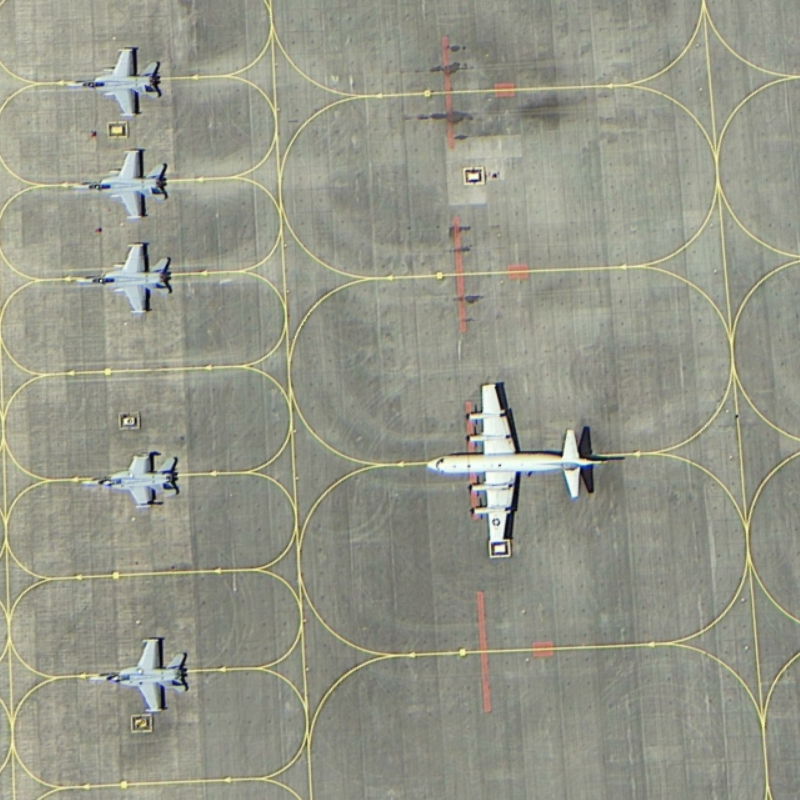A16: (84, 629, 198, 716), (58, 41, 167, 127), (65, 144, 172, 228), (73, 236, 175, 322), (73, 446, 189, 518)
A9: (412, 377, 615, 555)
